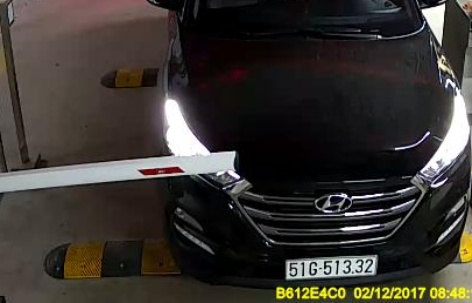plate: (278, 254, 382, 284)
